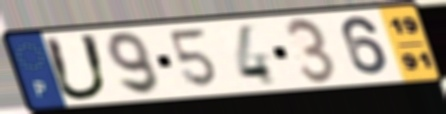3: (285, 15, 338, 87)
4: (231, 23, 281, 88)
5: (164, 28, 221, 91)
6: (339, 14, 391, 79)
9: (102, 30, 165, 97)
U: (40, 32, 113, 103)
